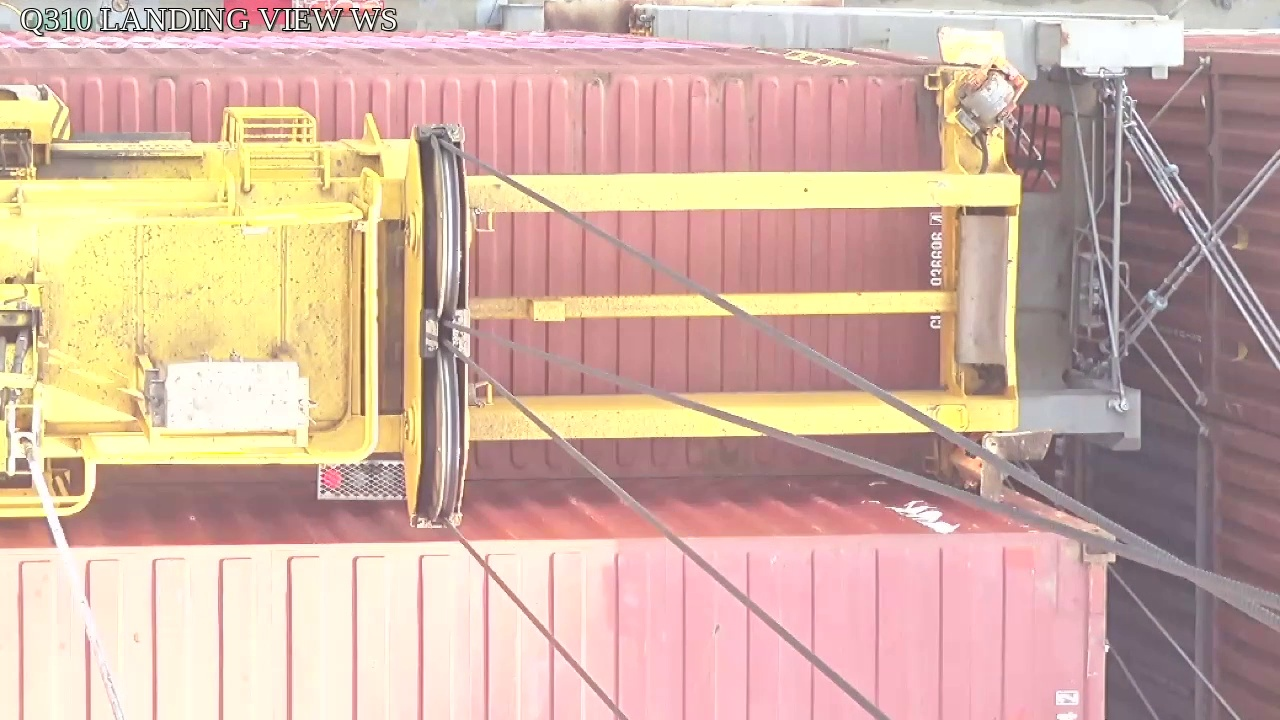right: (400, 123, 469, 527)
